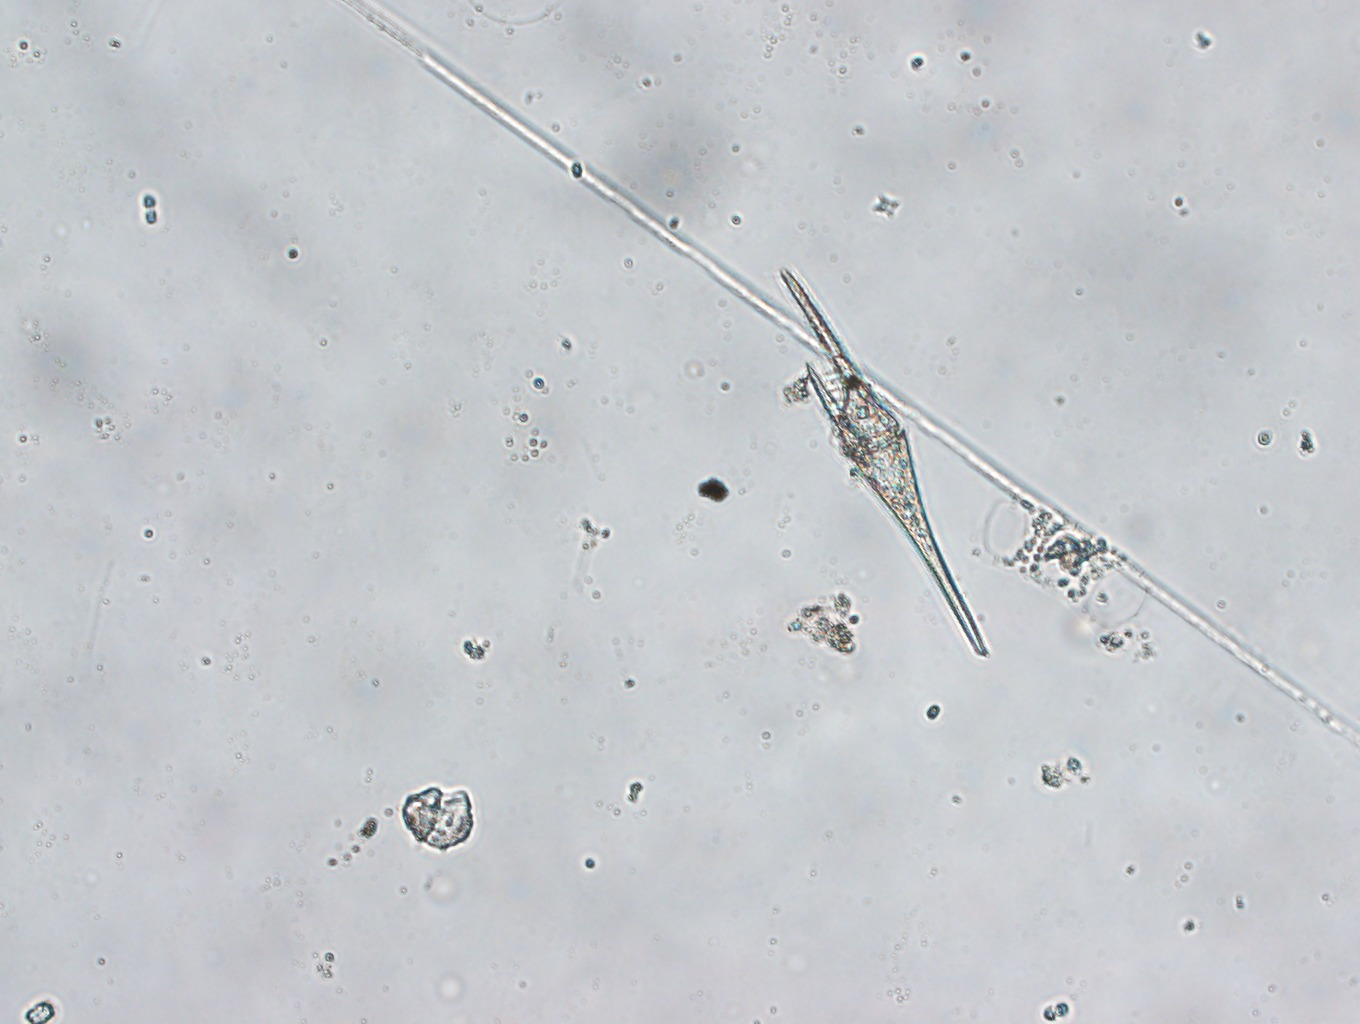ceratium furca: (778, 261, 987, 662)
